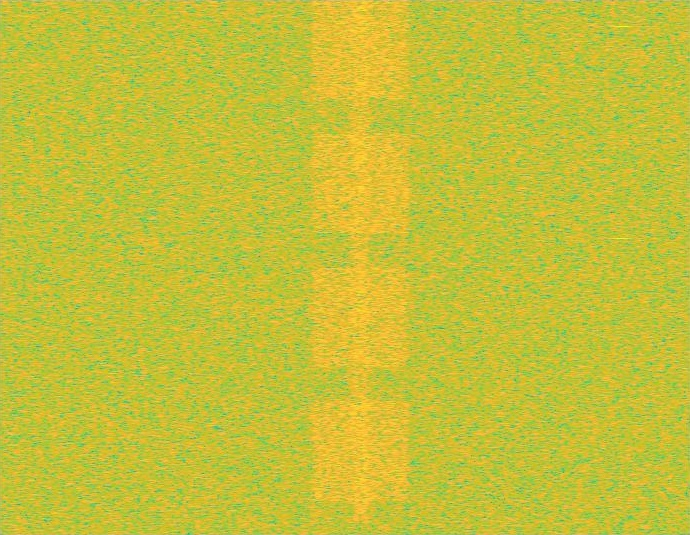5G: (309, 0, 412, 534)
DSSS: (349, 0, 372, 534)
Radar: (615, 0, 628, 534)
